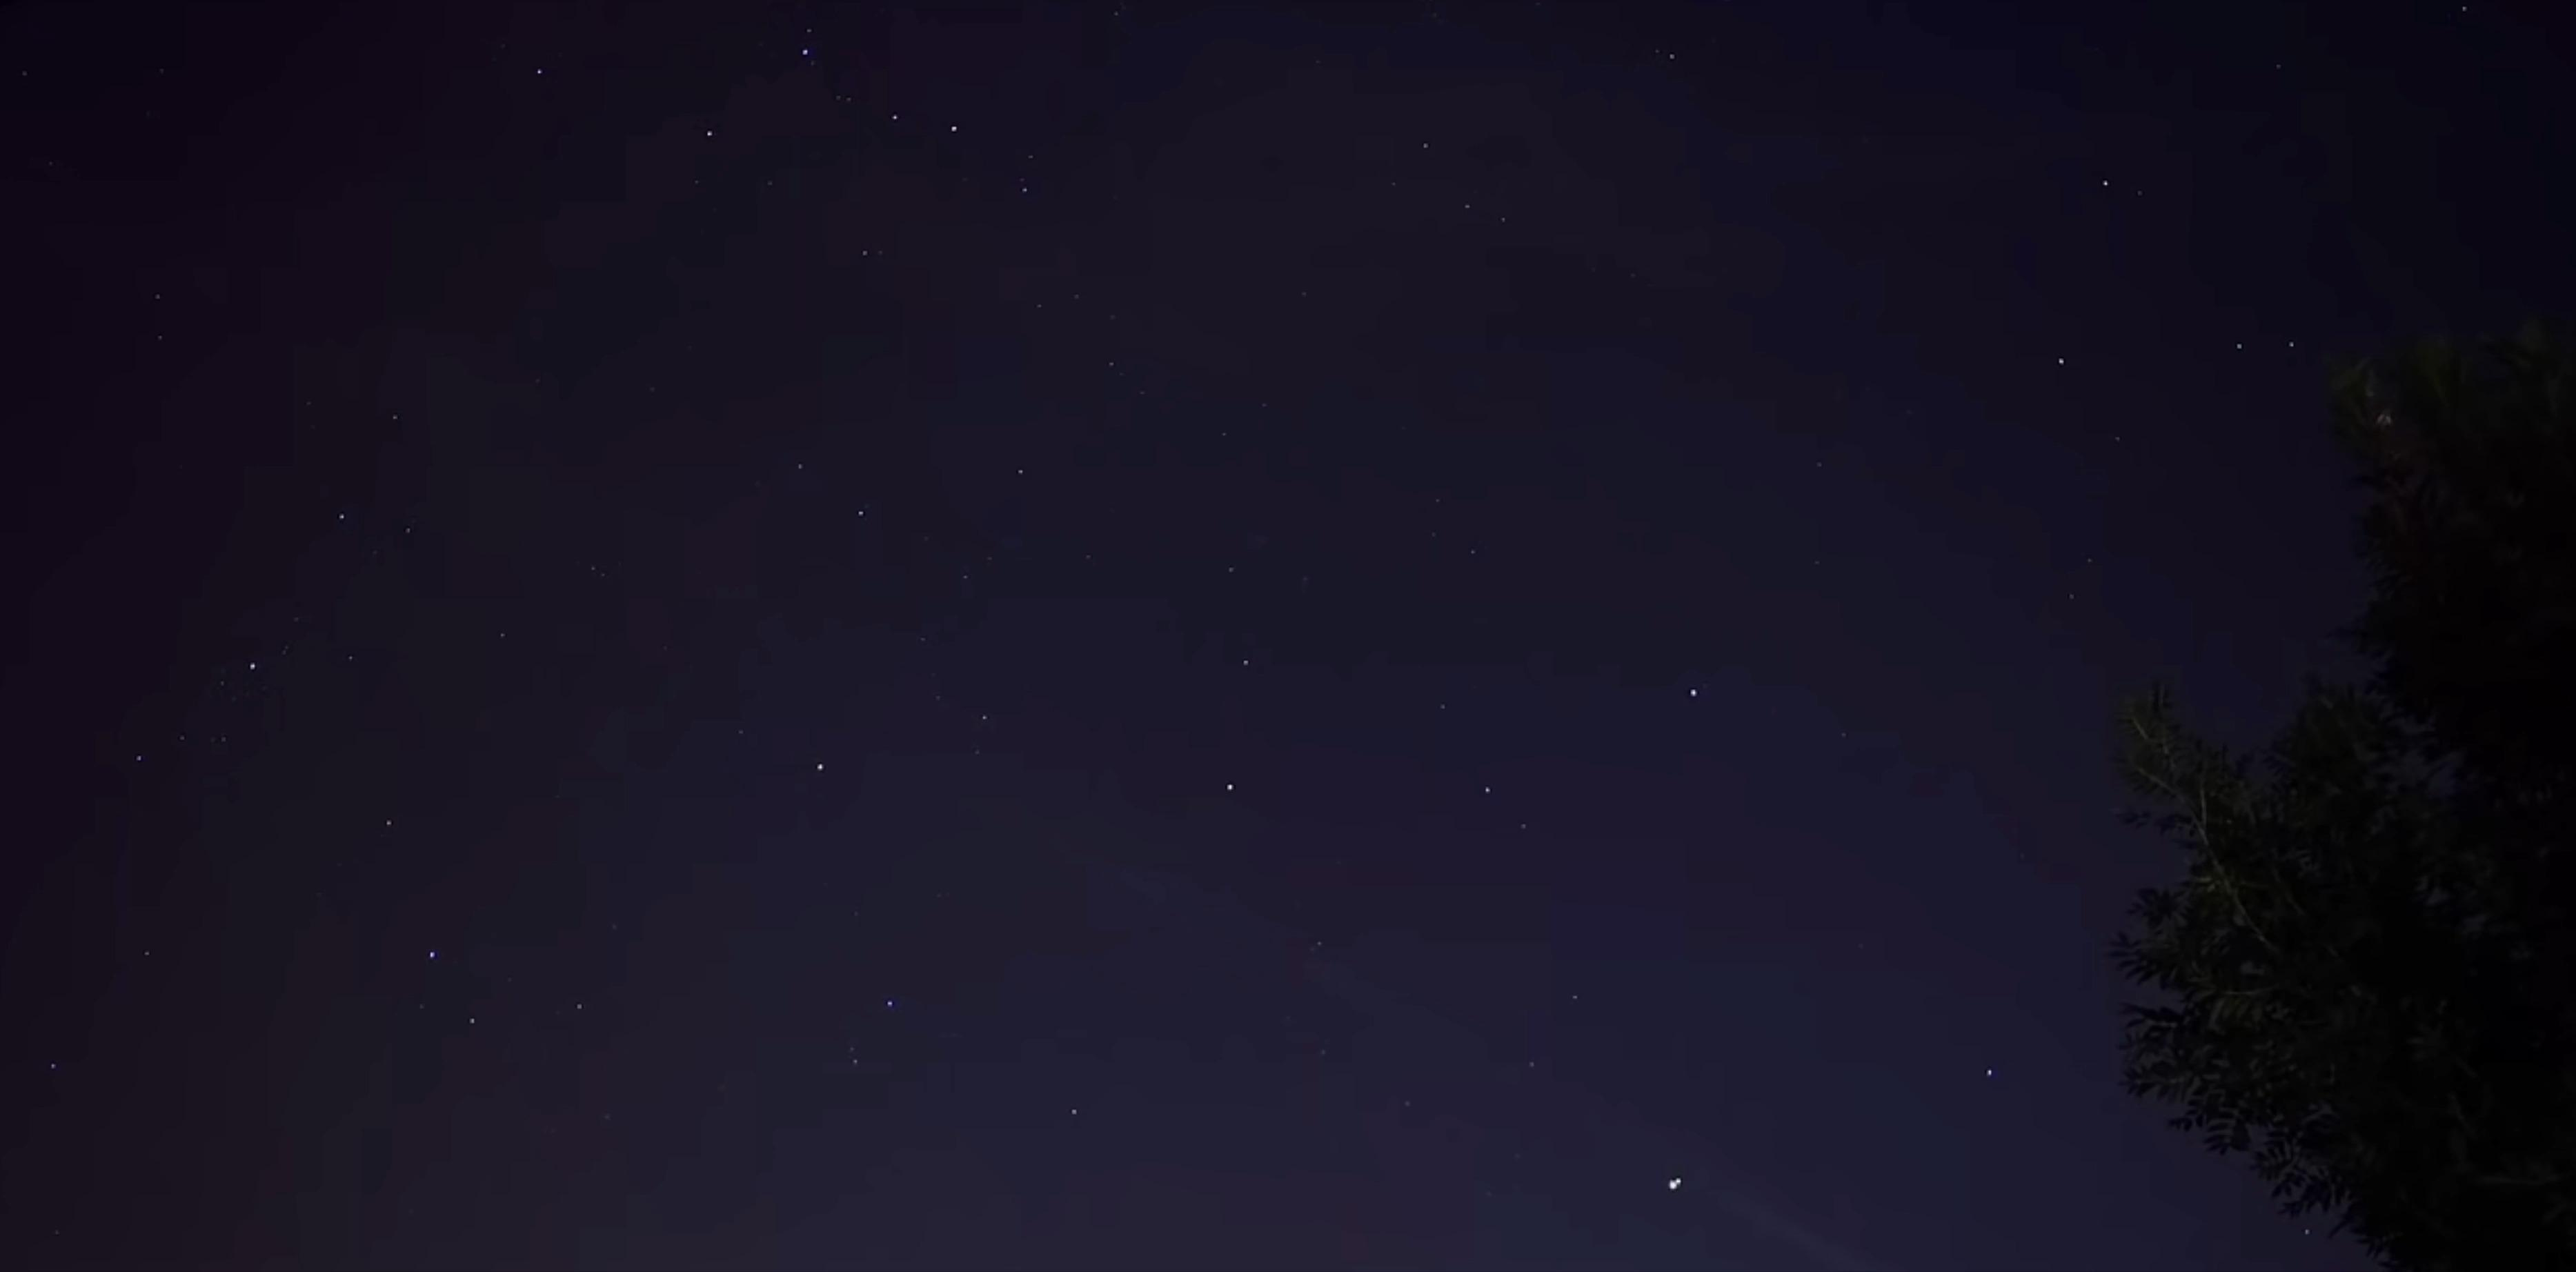Plane: (1644, 1170, 1702, 1200)
